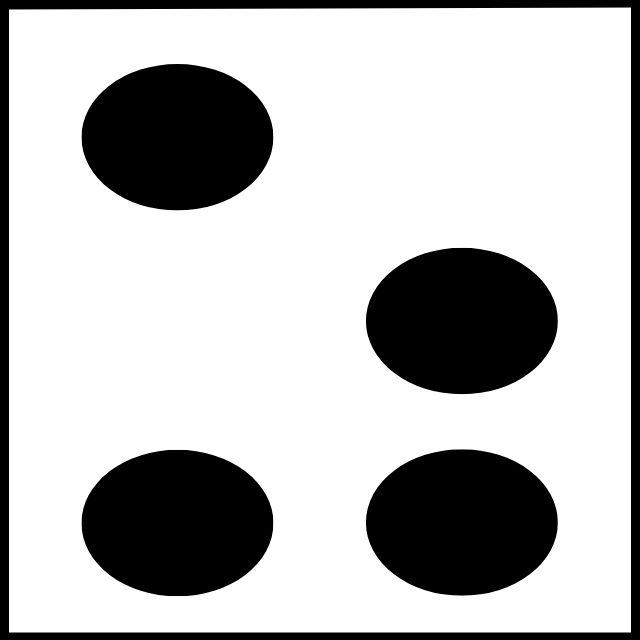sa: (79, 63, 560, 596)
